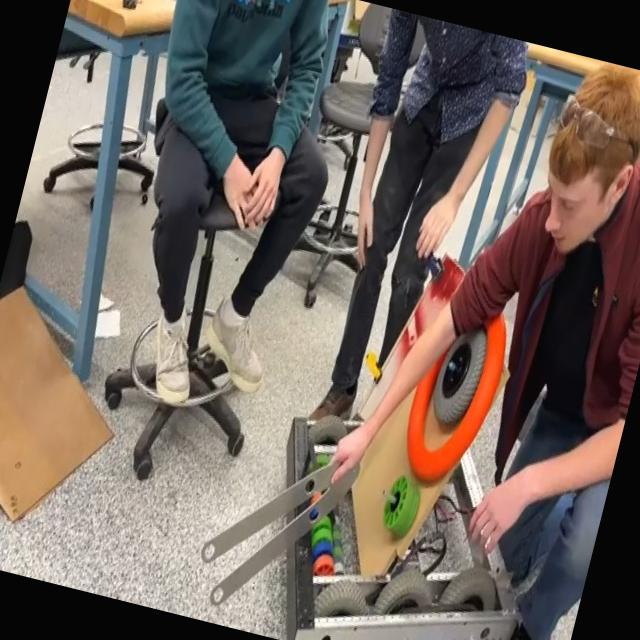note: (391, 289, 522, 499)
